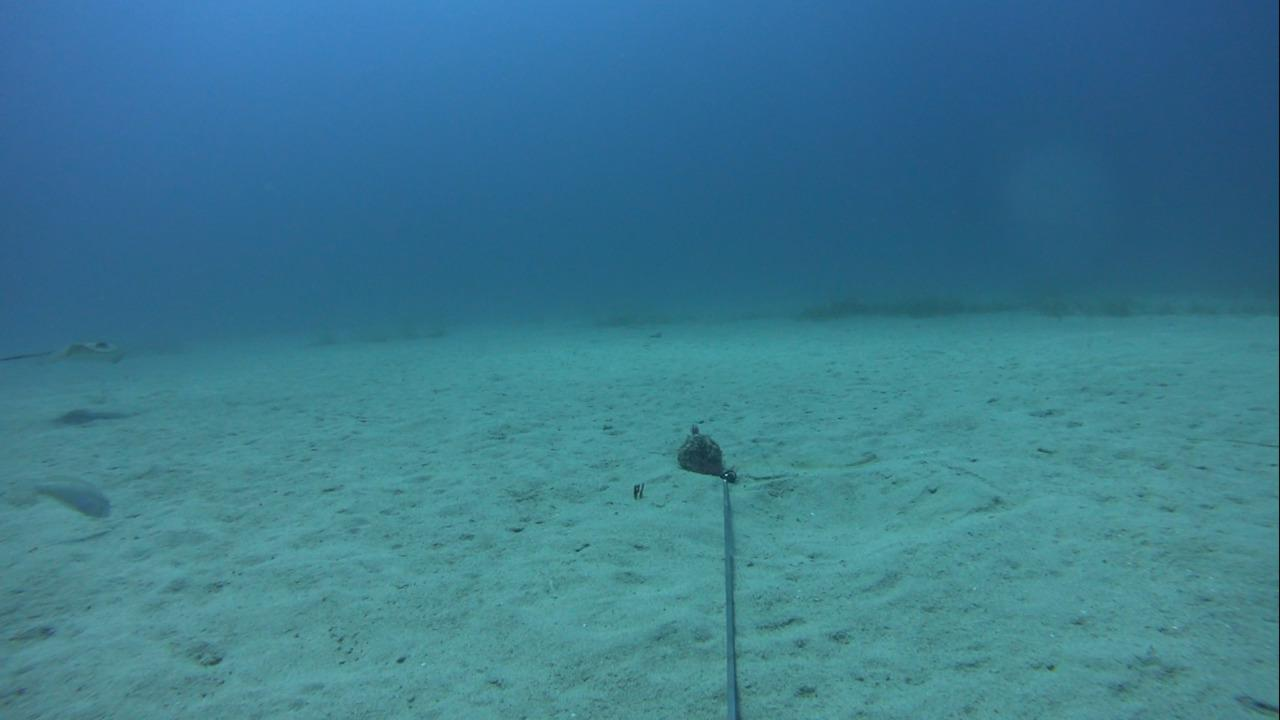myliobatis: (1, 333, 135, 373)
raor: (11, 475, 120, 526)
